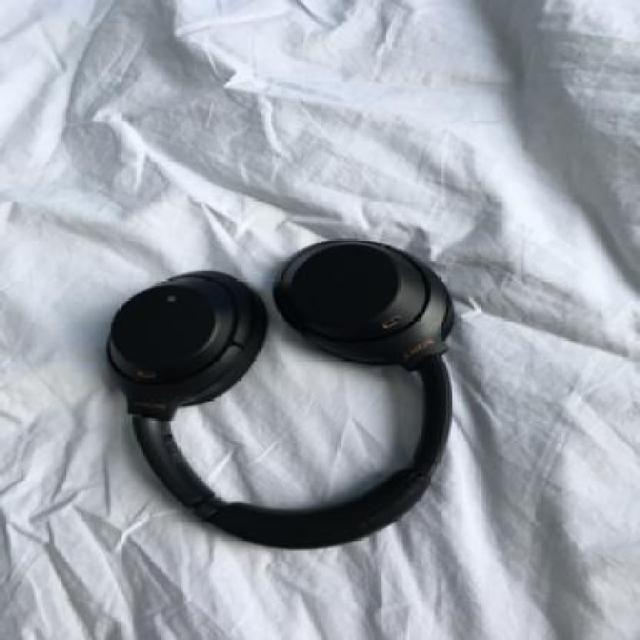earphone: (80, 88, 482, 555)
